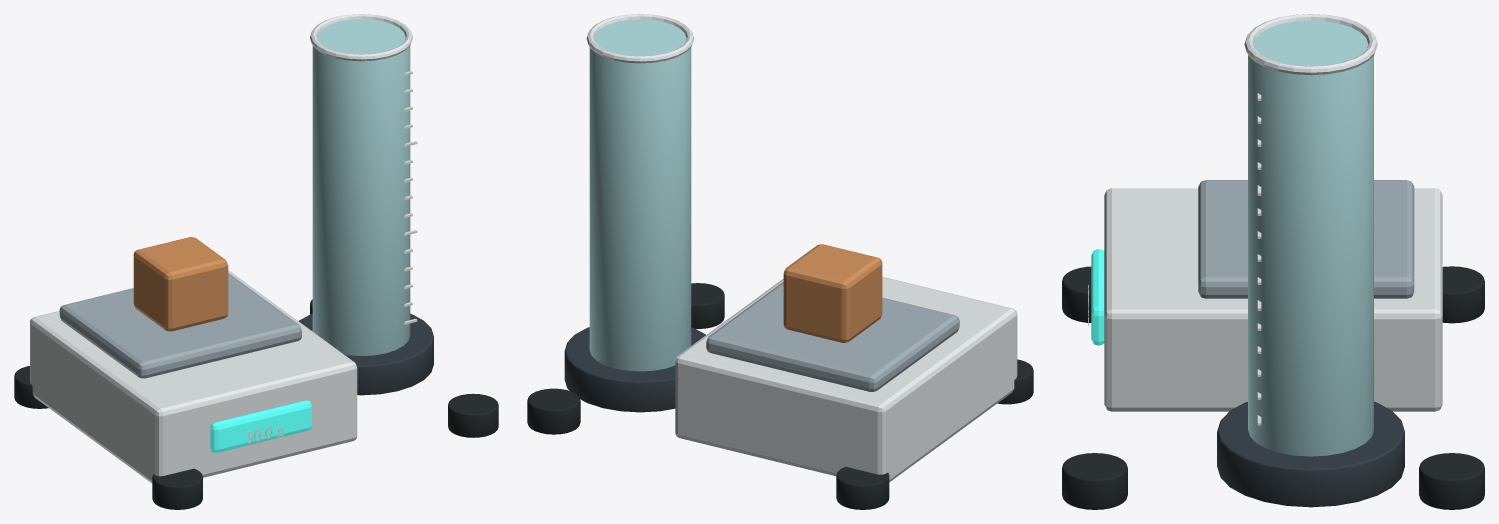
File: density.glb
3 views of the same model, side by side, from view 1: azimuth 30°, elevation 25°; view 2: azimuth 150°, elevation 25°; view 3: azimuth 270°, elevation 25° (orthographic). The views are drawn at different scales.
Parts seen in each view (by area): view 1: Scale housing, Measuring cylinder, Weighing pan, Mass block, Cylinder base, Display, Rubber foot.002, Rubber foot, Cylinder rim, Rubber foot.001; view 2: Scale housing, Measuring cylinder, Weighing pan, Mass block, Cylinder base, Rubber foot.003, Rubber foot.001, Cylinder rim, Rubber foot.002, Rubber foot; view 3: Measuring cylinder, Scale housing, Cylinder base, Weighing pan, Rubber foot.002, Rubber foot.003, Cylinder rim, Rubber foot.001, Rubber foot, Display.
Part boxes in pixels (x1,y1,x2,y2): Scale housing: [30, 271, 357, 483]; Measuring cylinder: [312, 19, 410, 355]; Weighing pan: [59, 273, 301, 378]; Mass block: [133, 237, 228, 331]; Cylinder base: [299, 313, 433, 395]; Display: [210, 400, 311, 452]; Rubber foot.002: [448, 393, 498, 437]; Rubber foot: [152, 468, 202, 509]; Cylinder rim: [310, 14, 412, 61]; Rubber foot.001: [14, 366, 48, 408]; Scale housing: [675, 276, 1017, 482]; Measuring cylinder: [589, 19, 691, 371]; Weighing pan: [706, 281, 959, 391]; Mass block: [783, 244, 882, 342]; Cylinder base: [564, 327, 705, 412]; Rubber foot.003: [527, 388, 580, 434]; Rubber foot.001: [836, 467, 889, 509]; Cylinder rim: [586, 14, 694, 63]; Rubber foot.002: [691, 283, 724, 328]; Rubber foot: [997, 359, 1033, 404]; Measuring cylinder: [1248, 20, 1373, 456]; Scale housing: [1104, 188, 1442, 411]; Cylinder base: [1217, 401, 1404, 507]; Weighing pan: [1198, 180, 1414, 298]; Rubber foot.002: [1062, 453, 1127, 509]; Rubber foot.003: [1419, 453, 1484, 509]; Cylinder rim: [1244, 14, 1377, 75]; Rubber foot.001: [1442, 266, 1484, 323]; Rubber foot: [1062, 266, 1091, 322]; Display: [1091, 249, 1104, 345].
Size of the model in its own units: 0.56 by 0.515 by 0.45.
